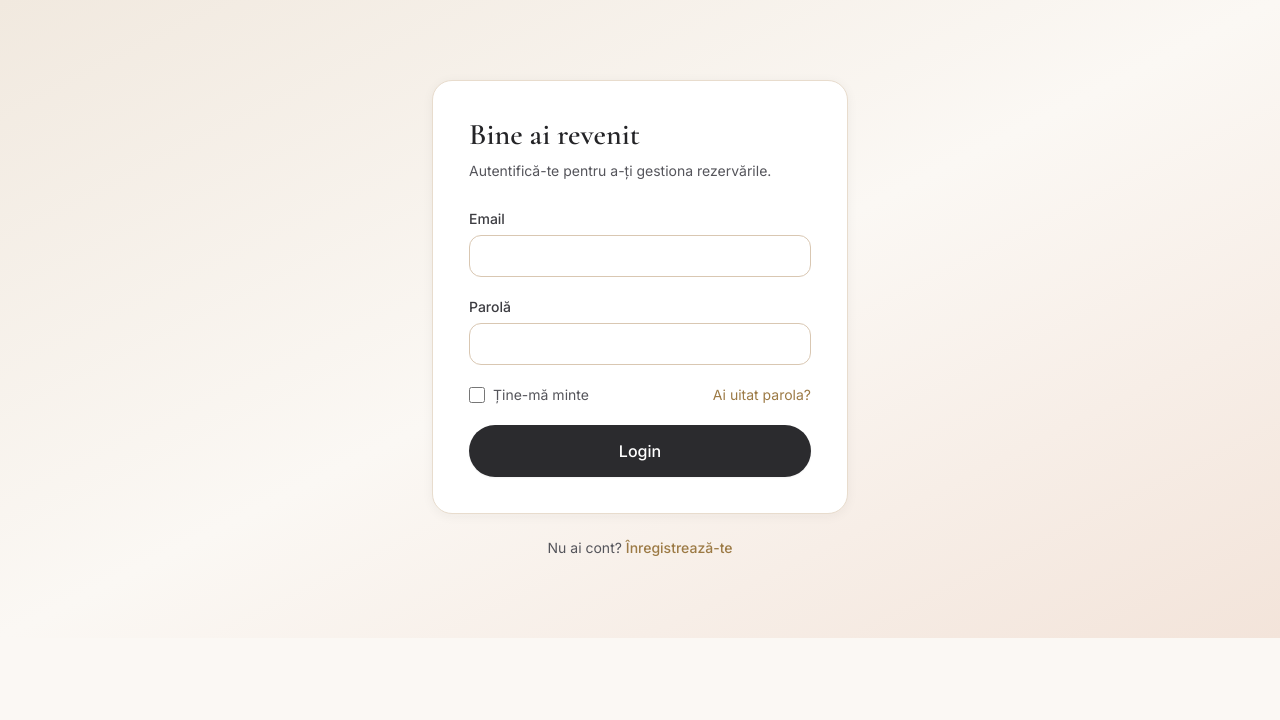
Test: Login › shows a clear message for wrong credentials
In the field labelled "Email": {"x": 640, "y": 256} [469,235,811,277], type "client@example.com"
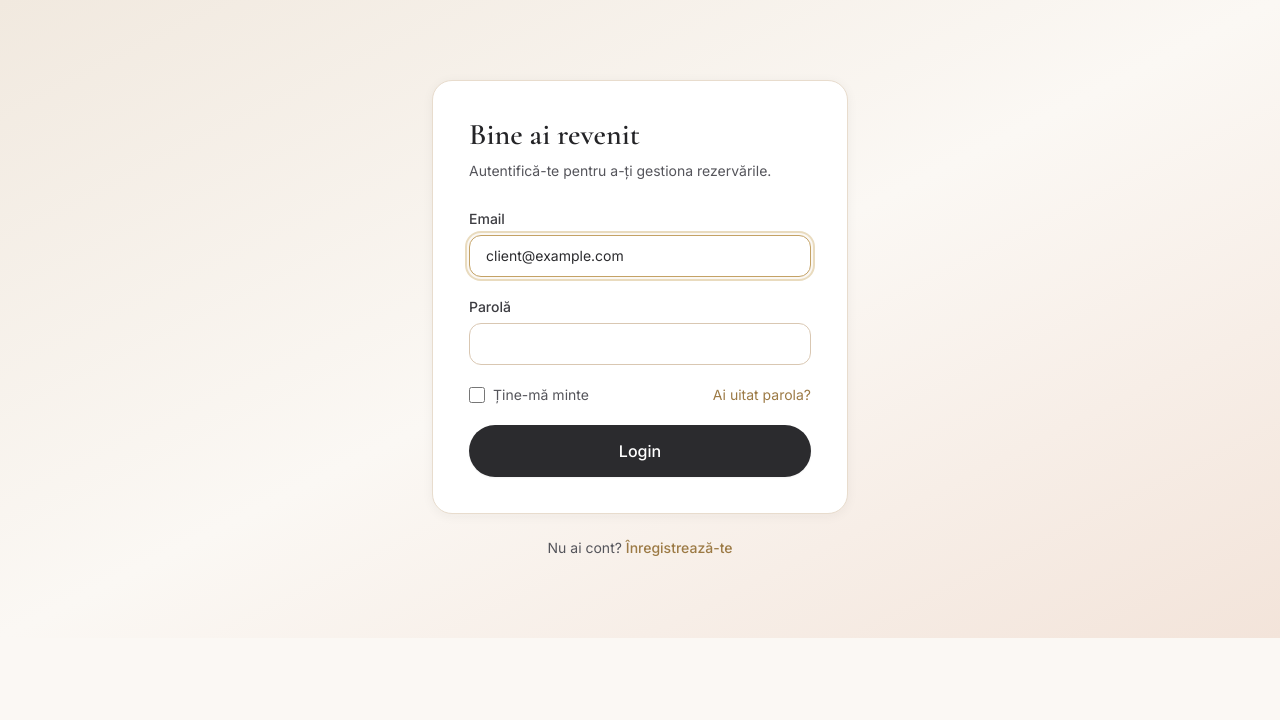
In the password field labelled "Parolă": {"x": 640, "y": 344} [469,323,811,365], type "gresita"
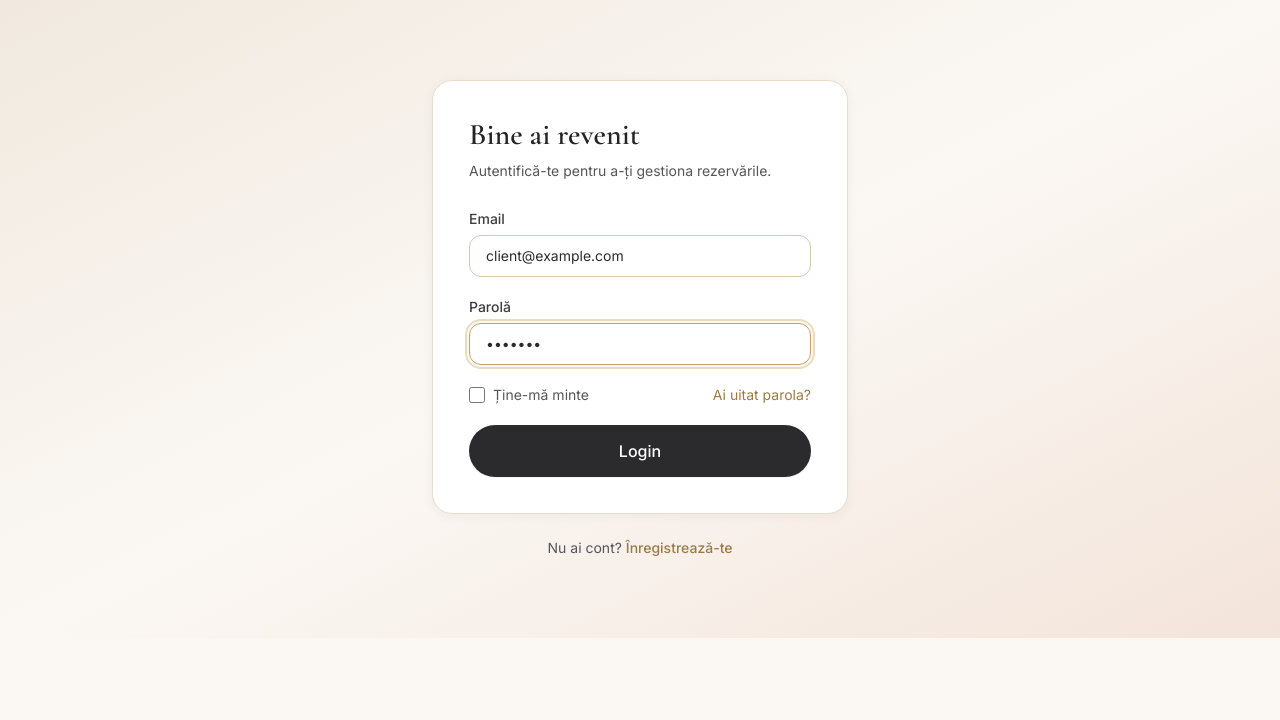
Click the button "Login": {"x": 640, "y": 451} [469,425,811,477]
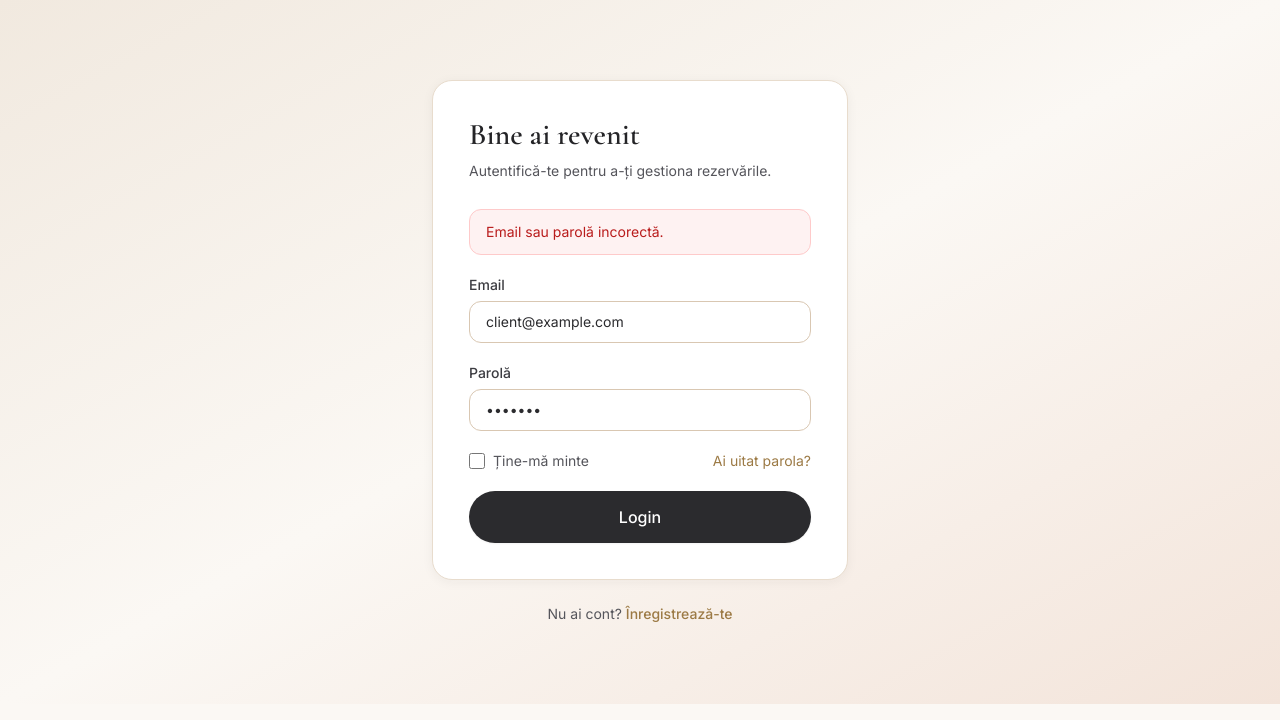
Now the message reads "Email sau parolă incorectă.", box [486,223,664,240]
